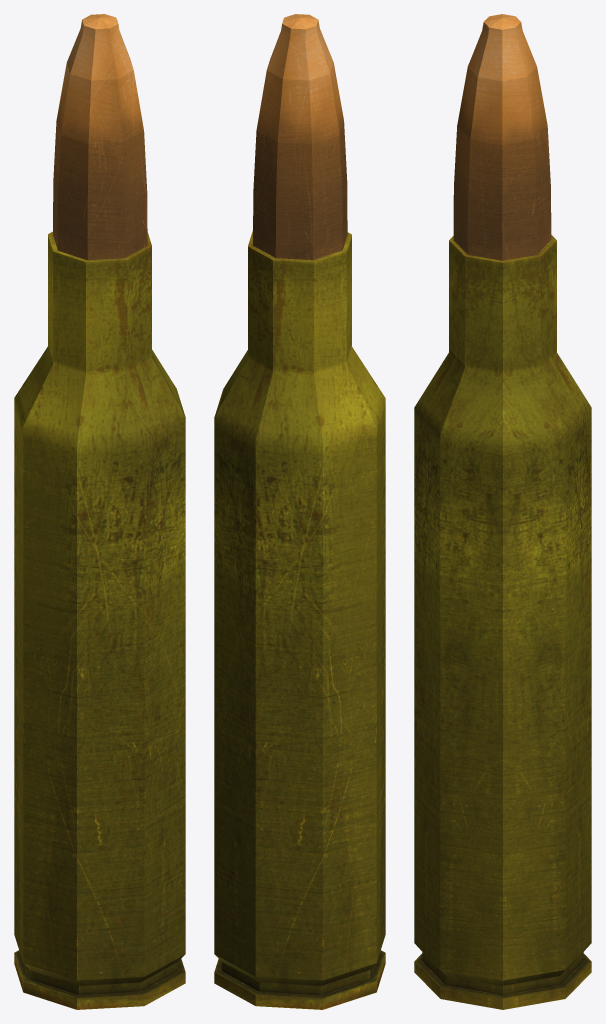
File: bullet2.fbx
The picture shows the model from 3 angles, left to right: view 1: azimuth 30°, elevation 25°; view 2: azimuth 150°, elevation 25°; view 3: azimuth 270°, elevation 25°; orthographic projection.
Parts seen in each view (by area): view 1: Shell, Bullet; view 2: Shell, Bullet; view 3: Shell, Bullet.
Boxes of the visible parts, bbox=[...] form: Shell: bbox=[14, 231, 185, 1009]; Bullet: bbox=[53, 14, 147, 260]; Shell: bbox=[214, 231, 385, 1009]; Bullet: bbox=[253, 14, 347, 260]; Shell: bbox=[414, 235, 591, 1009]; Bullet: bbox=[453, 14, 551, 260].
Bounding box in the file's own units: 3 × 17.86 × 3.
Materials: 1 (1 with a texture image).
